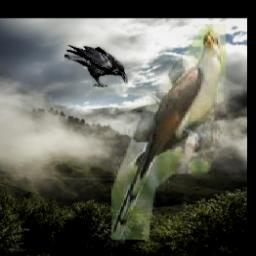Crow: (64, 45, 127, 88)
Cuckoo: (110, 25, 225, 241)
